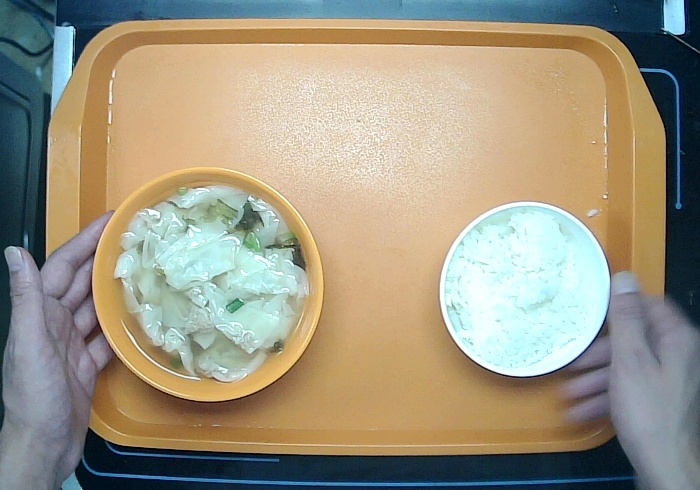NLDX-Fan_Wan: (434, 198, 613, 380)
NLDX-Hun_Tun_Wan: (90, 163, 323, 404)
